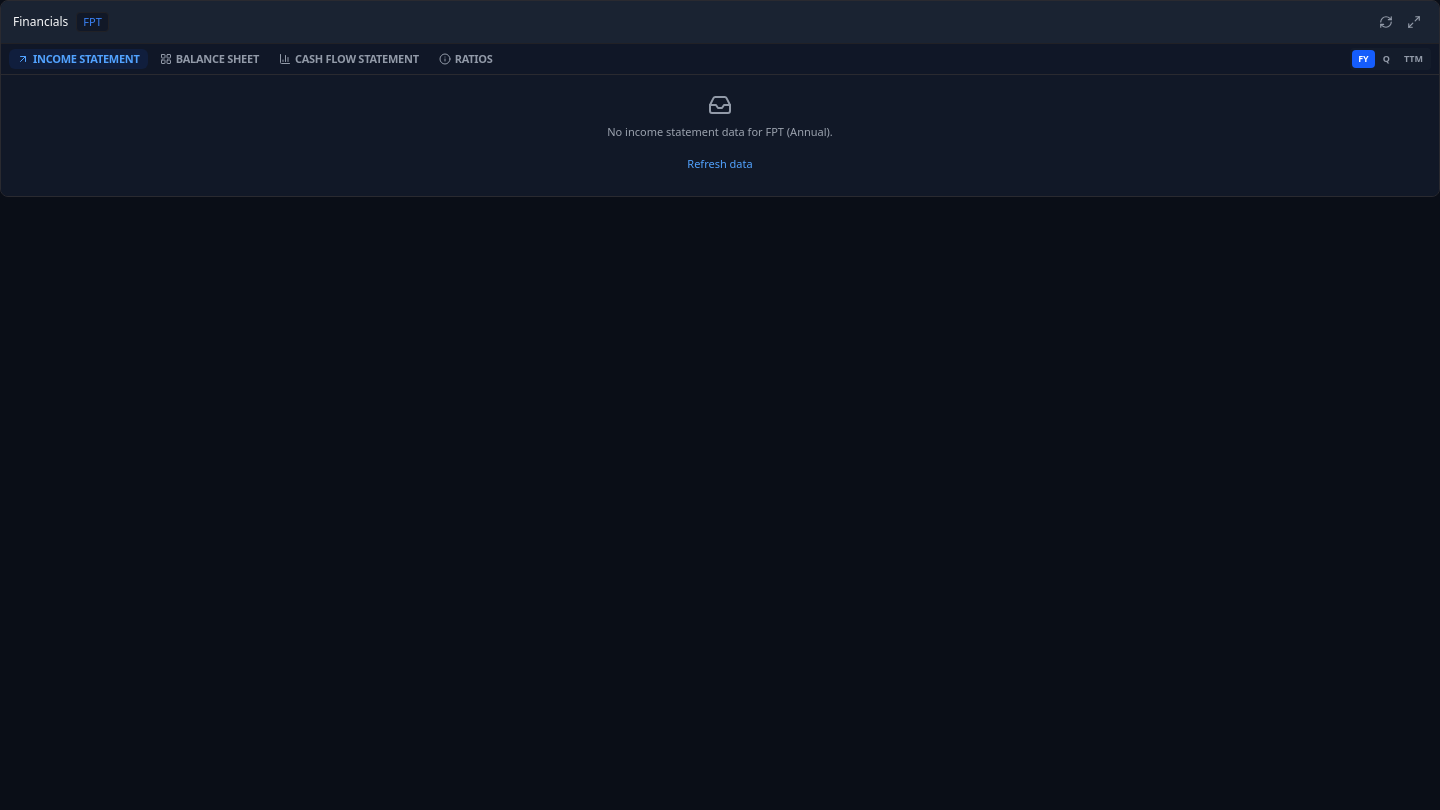
FinancialsWidget › preserves declared dividend percent and withholds unknown units
Click the button "Ratios" at (466, 59), box [431,48,501,69]
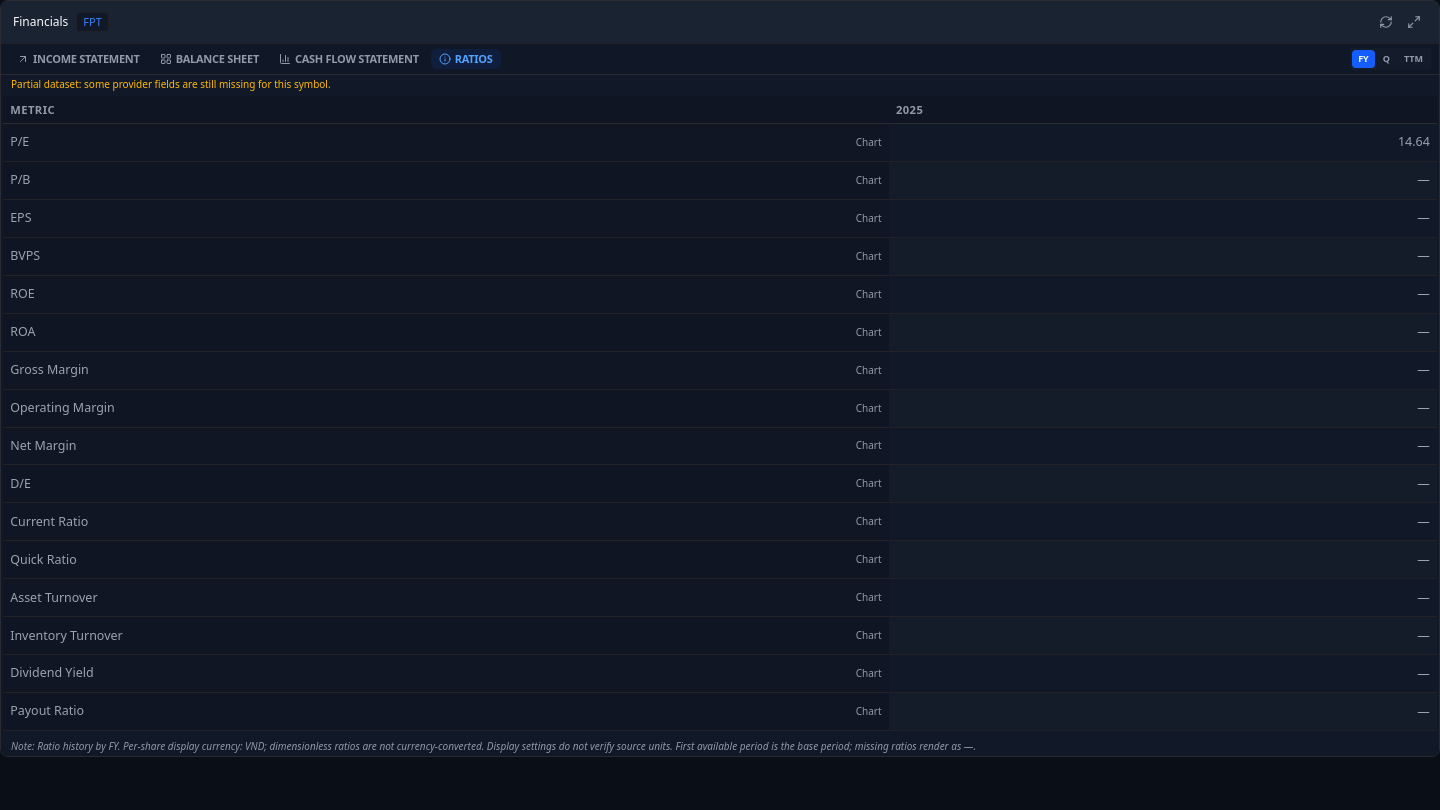
Expected: the text "Dividend Yield" does not show "25.00%", [3,655,1437,692]
Expected: the text "Dividend Yield" shows "—", [1417,665,1430,682]
